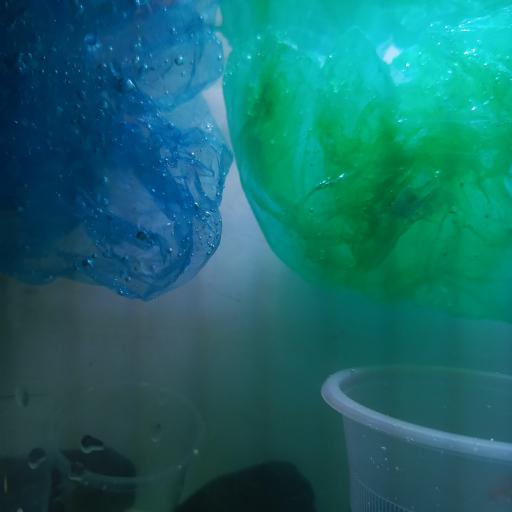plastic_bag: (219, 2, 512, 300), (1, 0, 231, 303)
plastic_cup: (318, 358, 512, 512), (41, 377, 208, 510)
